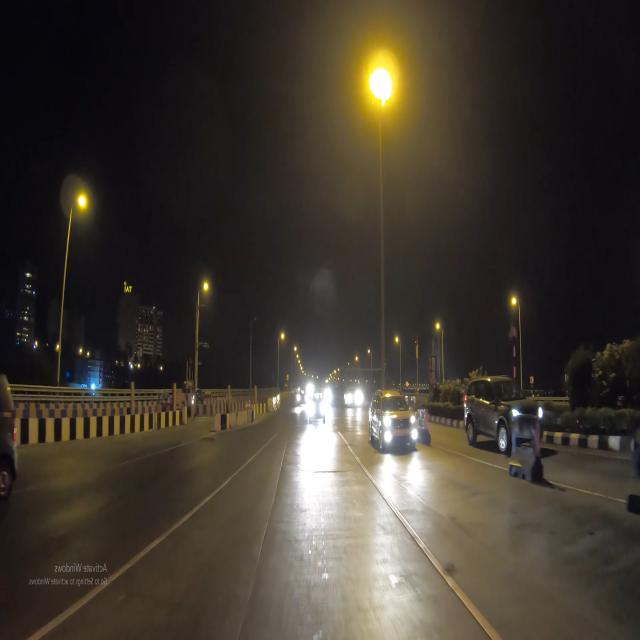headlights: (378, 411, 419, 449), (506, 402, 547, 427)
